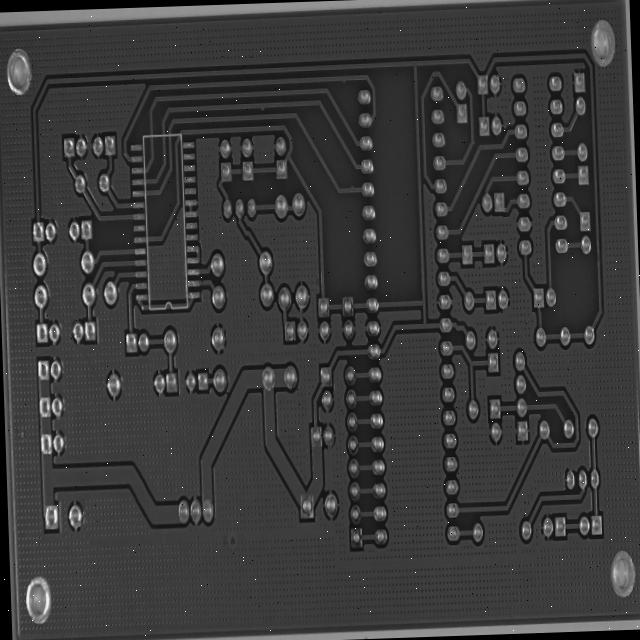spur: (346, 180, 356, 196), (257, 97, 266, 114), (339, 70, 347, 84)
